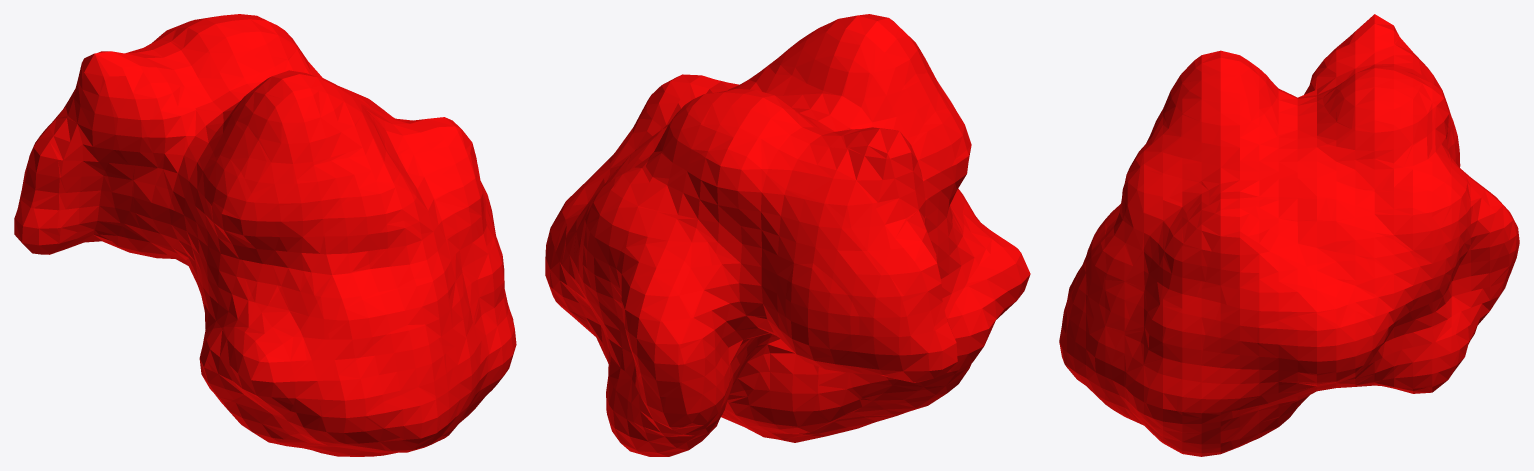
Rendered from udp_coarse.dae.
3 views of the same model, side by side, from view 1: azimuth 30°, elevation 25°; view 2: azimuth 150°, elevation 25°; view 3: azimuth 270°, elevation 25° (orthographic). The views are drawn at different scales.
Visible parts, largest first — view 1: udp; view 2: udp; view 3: udp.
Boxes of the visible parts, box(x1,y1,x2,y2) form: udp: box(14, 14, 516, 456); udp: box(545, 14, 1030, 456); udp: box(1059, 14, 1519, 456).
Size of the model in its own units: 52.31 by 47.97 by 56.94.
